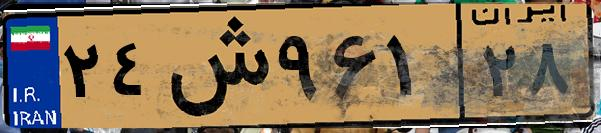1: (385, 28, 445, 110)
2: (57, 26, 110, 100), (475, 38, 525, 113)
4: (110, 28, 158, 98)
6: (330, 28, 385, 110)
8: (525, 38, 570, 115)
9: (270, 28, 330, 110)
ش: (158, 12, 270, 120)
